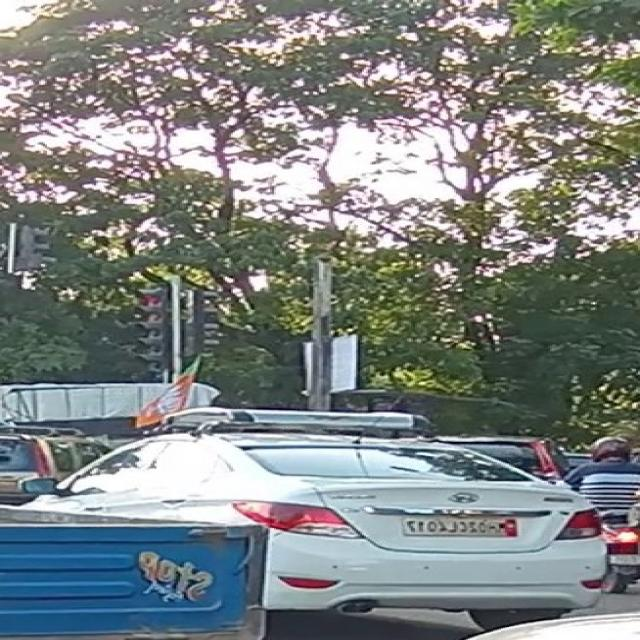license_plate: (393, 506, 526, 546)
